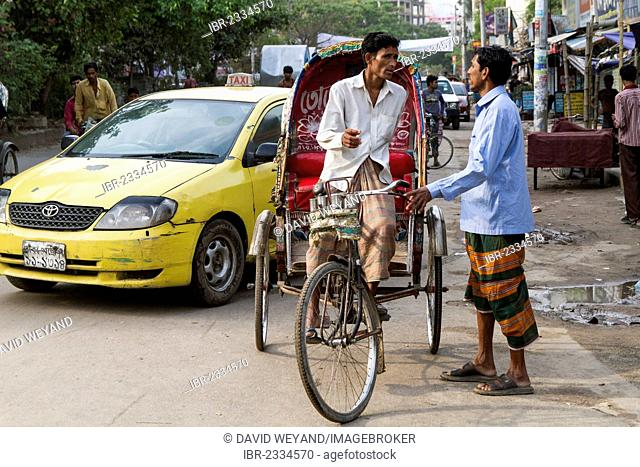rickshaw: (251, 40, 445, 423)
taxi: (2, 72, 287, 304)
wheelbarrow: (529, 113, 611, 190)
